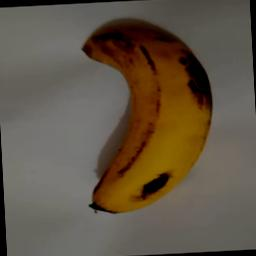Banana Unripe: (76, 22, 220, 213)
